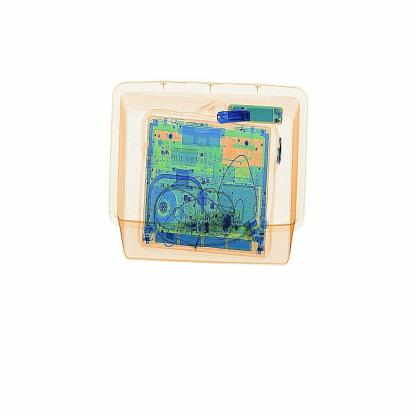knife: (214, 98, 252, 135)
